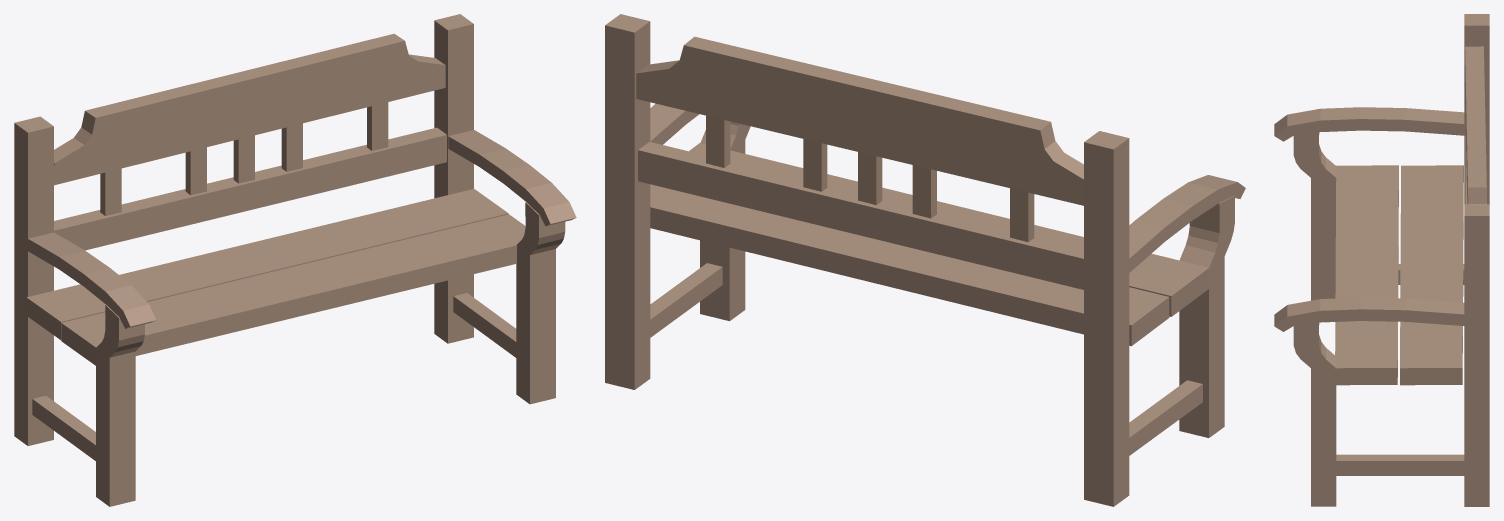
File: Bench_3.fbx
3 views of the same model, side by side, from view 1: azimuth 30°, elevation 25°; view 2: azimuth 150°, elevation 25°; view 3: azimuth 270°, elevation 25° (orthographic). The views are drawn at different scales.
Visible parts, largest first — view 1: Bench_3; view 2: Bench_3; view 3: Bench_3.
Boxes of the visible parts, x1=… form: Bench_3: x1=14, y1=14, x2=576, y2=506; Bench_3: x1=605, y1=14, x2=1245, y2=506; Bench_3: x1=1274, y1=14, x2=1489, y2=506.
Bounding box in the file's own units: 191 × 85.72 × 128.
